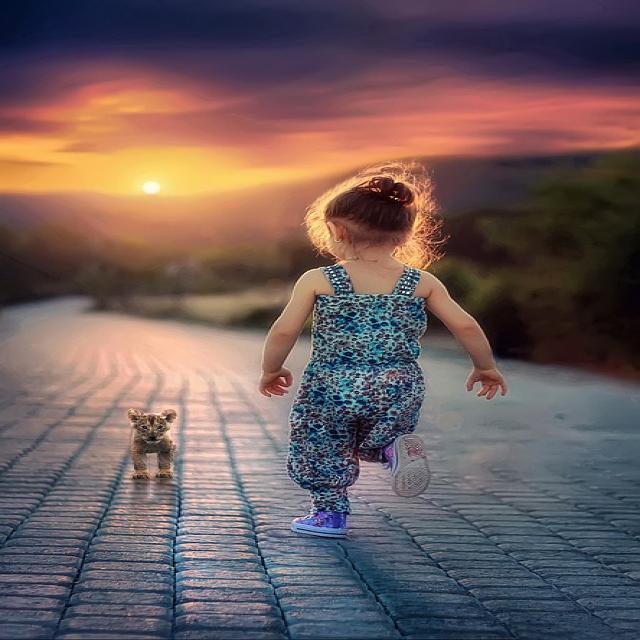Edited images: (249, 153, 512, 545)
